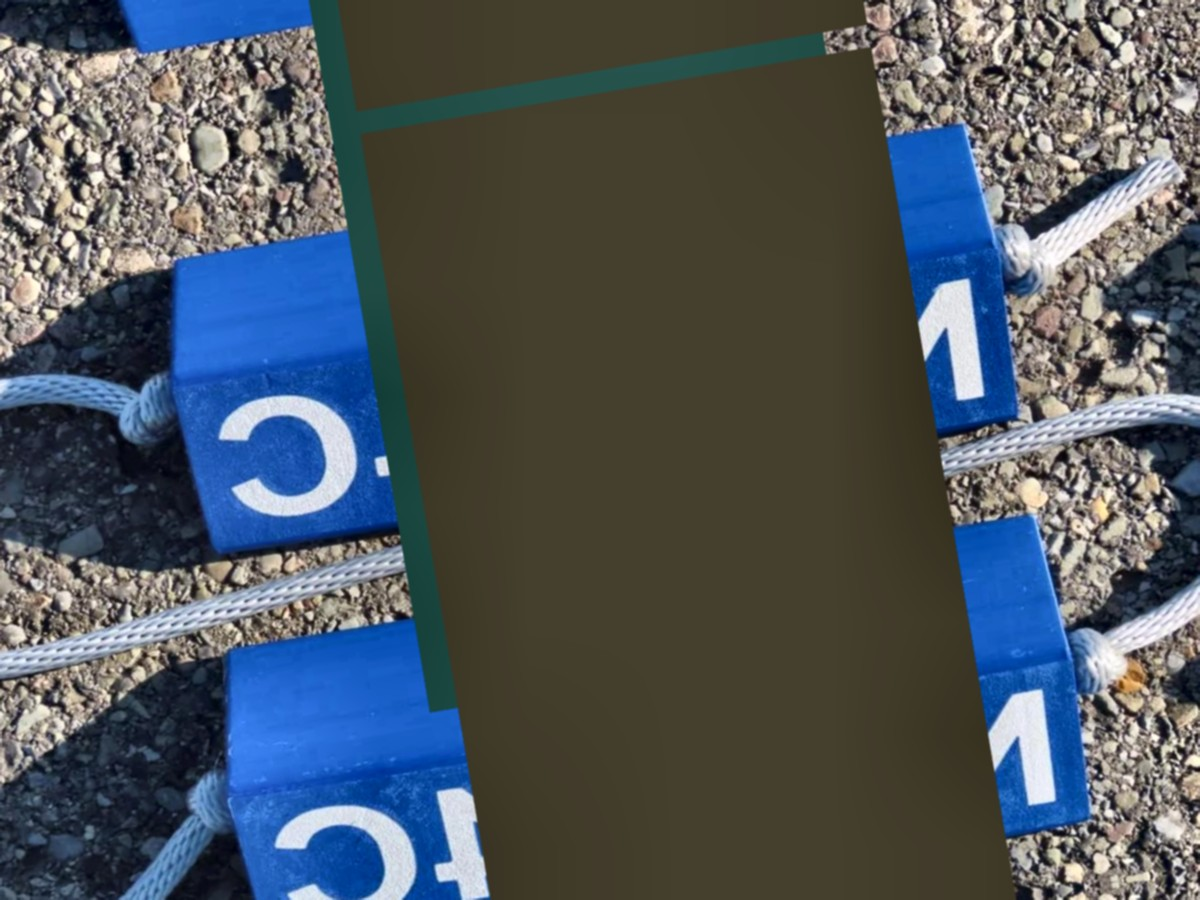chock: (155, 110, 1033, 563), (203, 499, 1105, 900)
